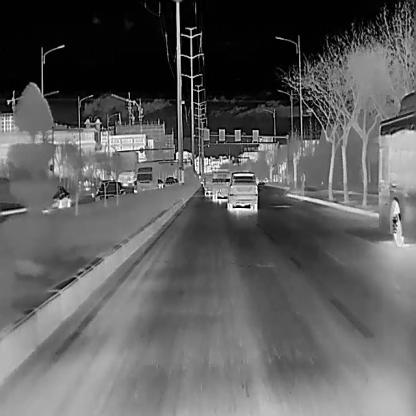bus: (377, 89, 415, 247)
car: (225, 170, 258, 209), (93, 180, 124, 201), (51, 185, 70, 208), (164, 176, 175, 186), (157, 177, 164, 188)
truck: (134, 164, 158, 191), (211, 171, 230, 200)
